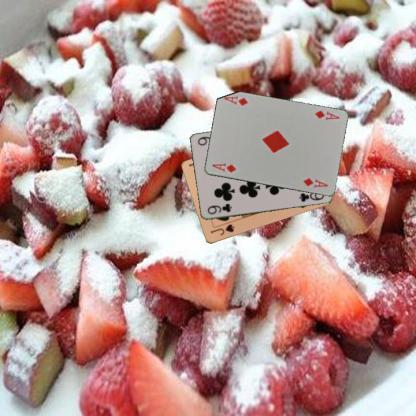9c: (204, 201, 233, 216)
Ad: (209, 160, 238, 174), (312, 108, 340, 122)
Js: (208, 222, 236, 236)
